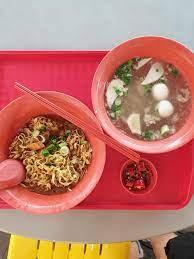Braised Crucian Carp: (0, 92, 106, 213), (92, 34, 193, 153)
